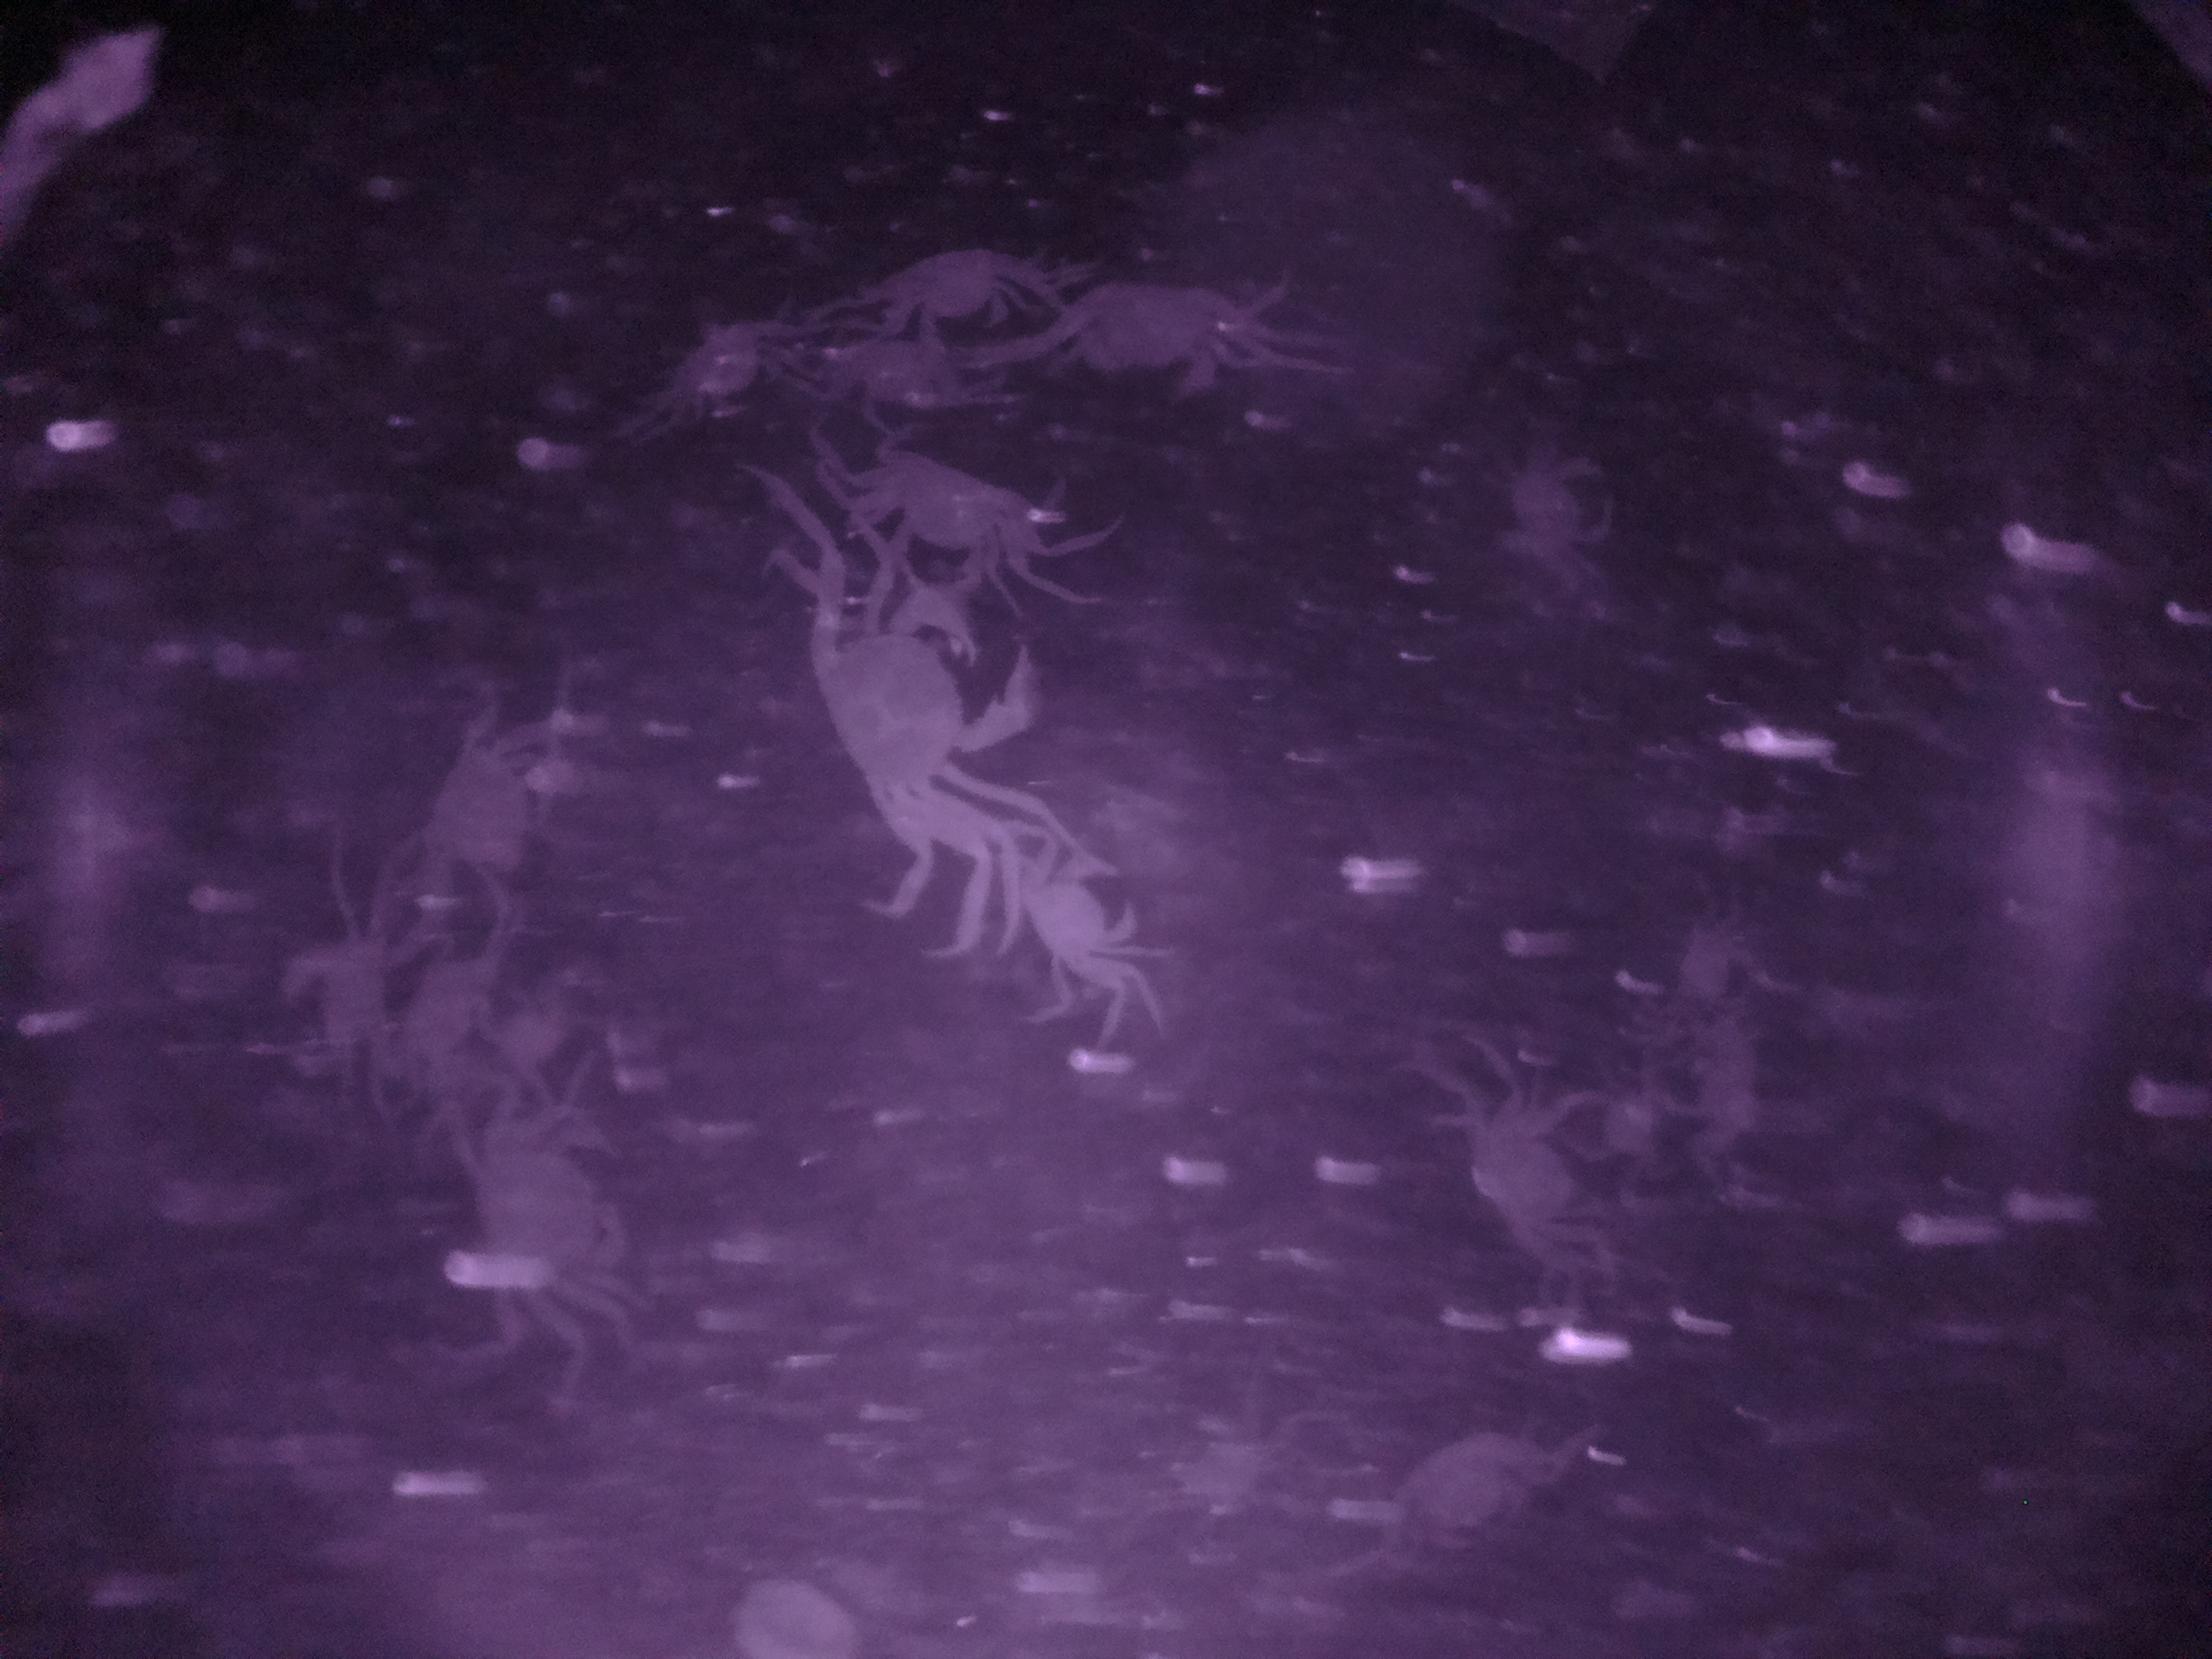Crab: (782, 565, 1045, 829), (822, 427, 1087, 603), (1007, 824, 1165, 1026), (1055, 256, 1259, 396), (853, 232, 1045, 342), (667, 293, 805, 434)
